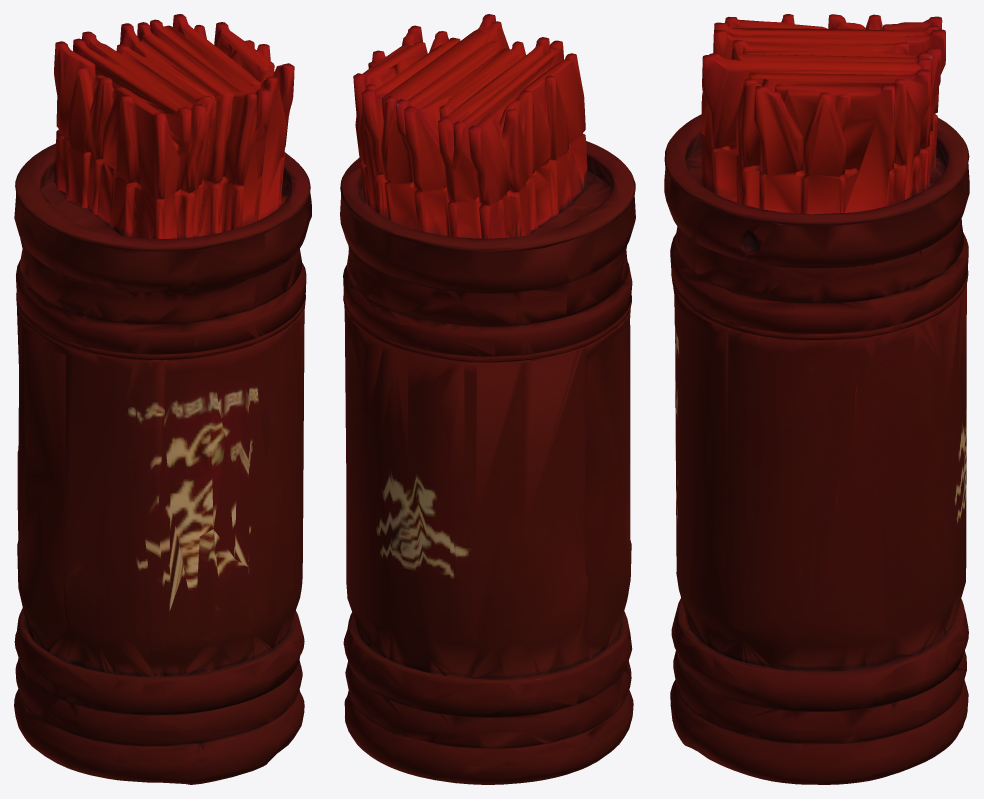
File: 求签筒-Small.fbx
3 views of the same model, side by side, from view 1: azimuth 30°, elevation 25°; view 2: azimuth 150°, elevation 25°; view 3: azimuth 270°, elevation 25° (orthographic). The views are drawn at different scales.
Parts seen in each view (by area): view 1: texture_pbr_v128; view 2: texture_pbr_v128; view 3: texture_pbr_v128.
Part boxes in pixels (box(x1,y1,x2,y2)): texture_pbr_v128: box(14, 14, 311, 784); texture_pbr_v128: box(340, 14, 635, 784); texture_pbr_v128: box(664, 14, 969, 784).
Bounding box in the file's own units: 45.18 × 113 × 44.97.
Materials: 1 (1 with a texture image).
